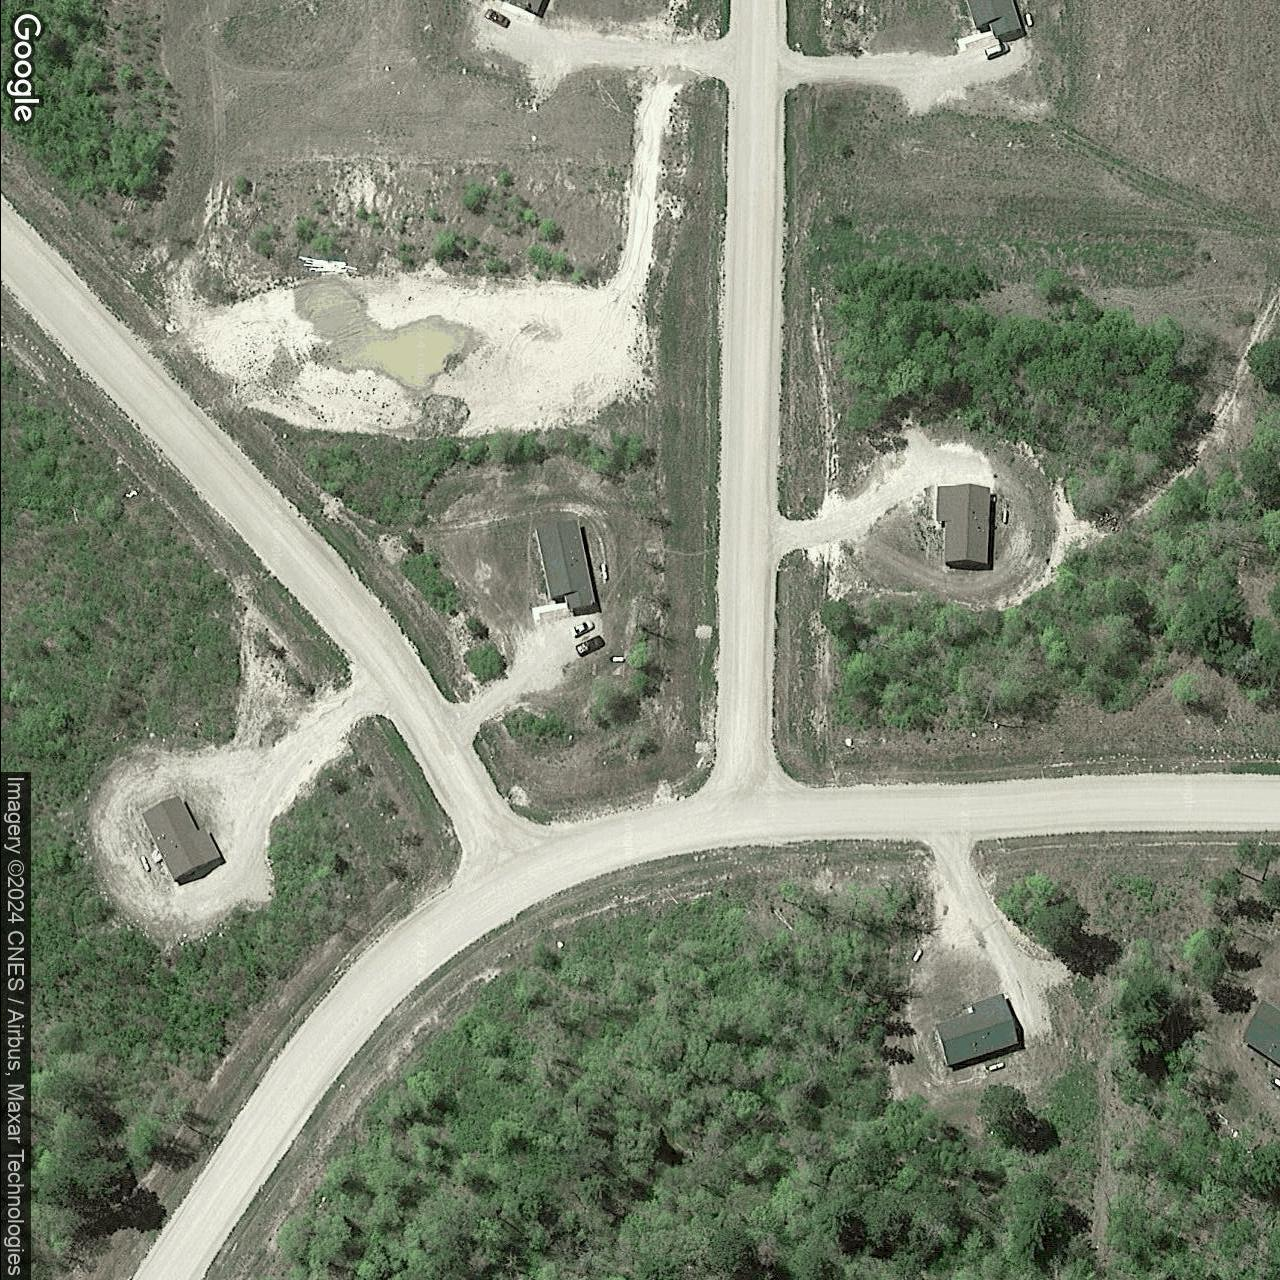House: (139, 795, 220, 883), (931, 994, 1019, 1068), (535, 519, 595, 612), (934, 483, 992, 567), (1240, 1000, 1280, 1068), (966, 0, 1022, 38)
Propane: (985, 1060, 1007, 1074), (908, 946, 925, 965), (136, 855, 151, 874), (599, 563, 612, 583), (1022, 11, 1036, 28), (608, 654, 627, 665), (1000, 509, 1009, 525), (1269, 1075, 1280, 1089)
